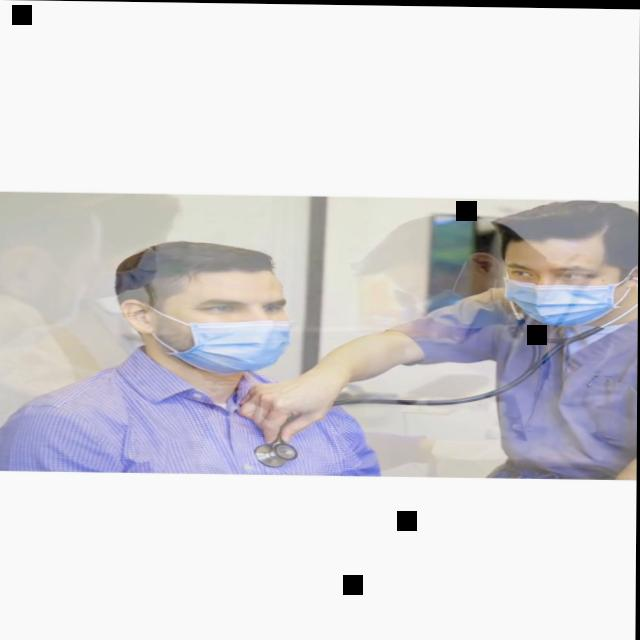Mask: (158, 270, 295, 373), (504, 235, 624, 326), (15, 218, 107, 325), (382, 254, 508, 327), (83, 219, 170, 297)
